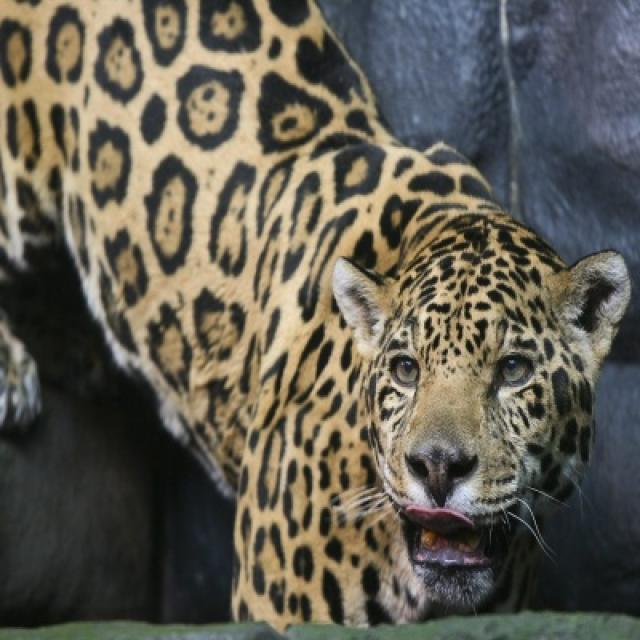Jaguar: (0, 0, 634, 635)
